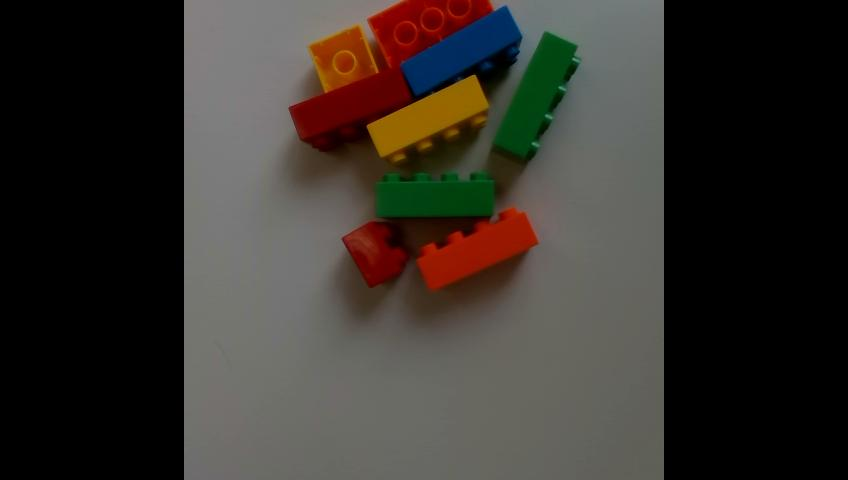2x2_red: (341, 221, 412, 286)
2x2_yellow: (306, 23, 379, 94)
4x2_blue: (402, 2, 522, 97)
4x2_green: (493, 28, 583, 163), (375, 169, 495, 216)
4x2_orange: (415, 202, 539, 291), (366, 0, 492, 69)
4x2_red: (286, 65, 415, 152)
4x2_yellow: (367, 71, 490, 164)
